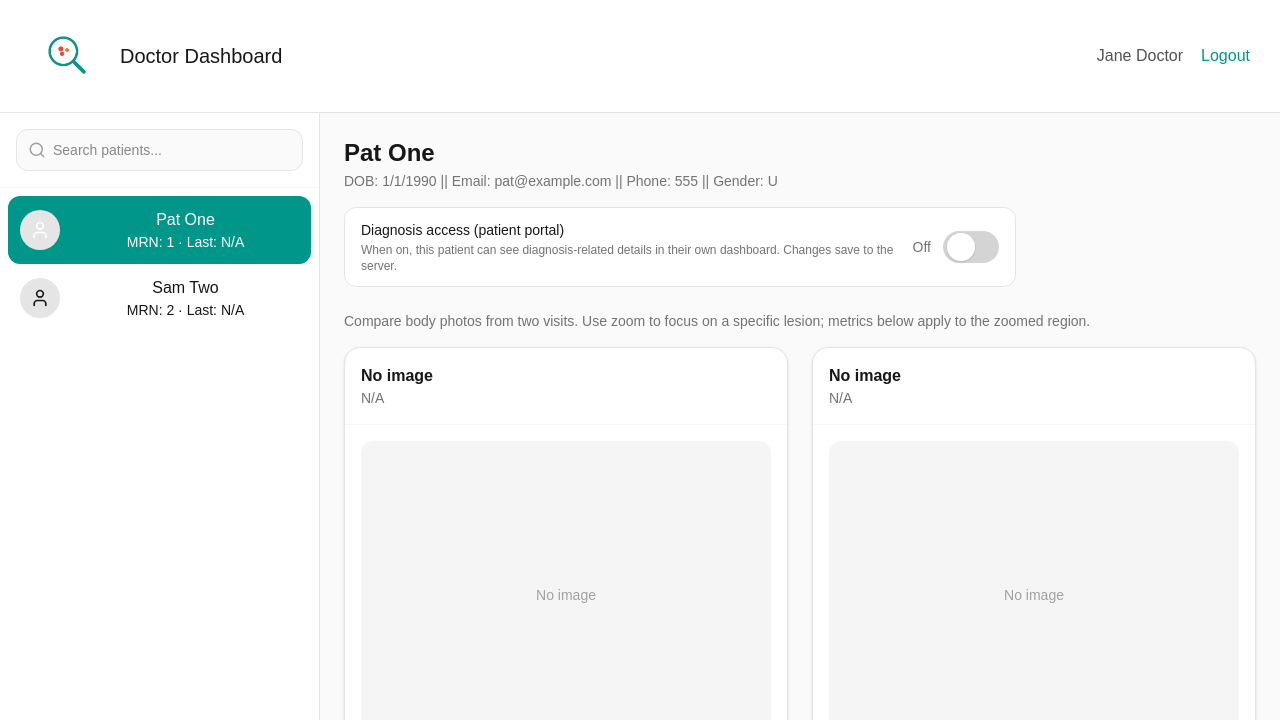
DoctorDashboard › session and patient list › selecting another patient loads that patient profile in the main panel
The image size is (1280, 720).
Expected: the heading "Pat One" is shown, [344, 139, 435, 166]
Click the button "Sam Two MRN: 2 · Last: N/A": click(160, 298) [8, 264, 311, 332]
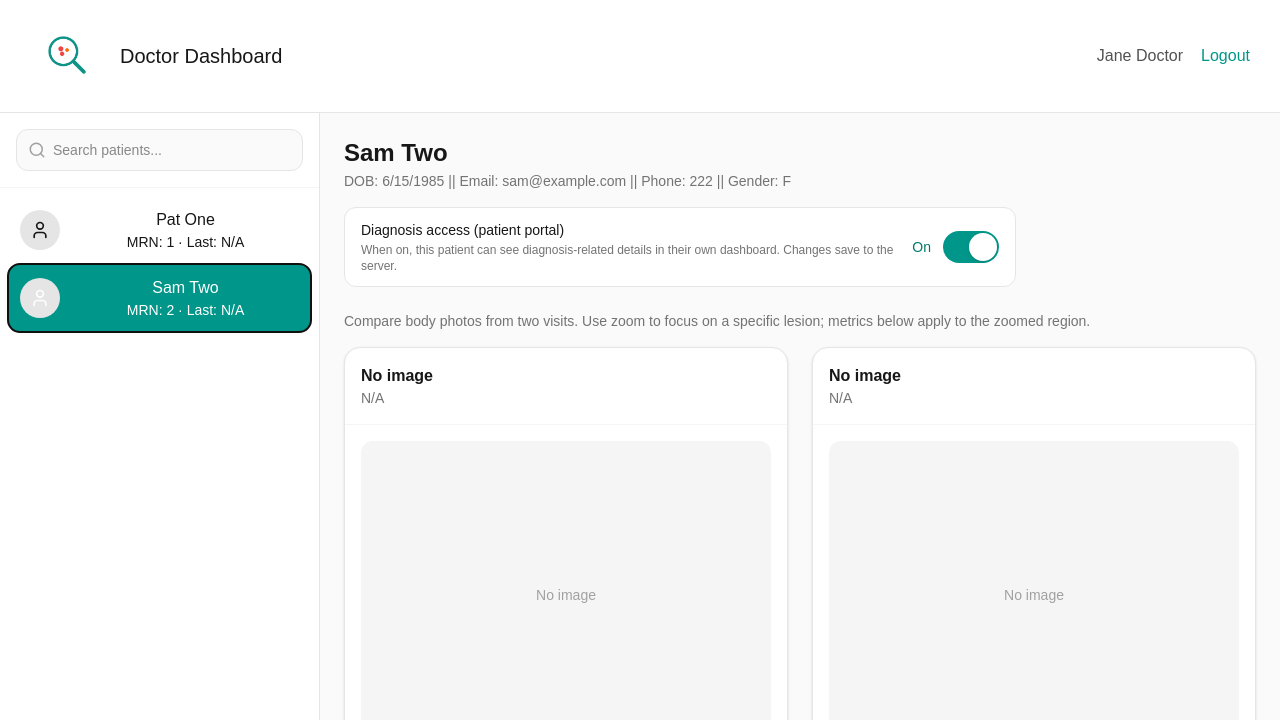
Expected: the heading "Sam Two" is shown, [344, 139, 448, 166]
Expected: the text "sam@example.com" is shown, [502, 173, 626, 189]
